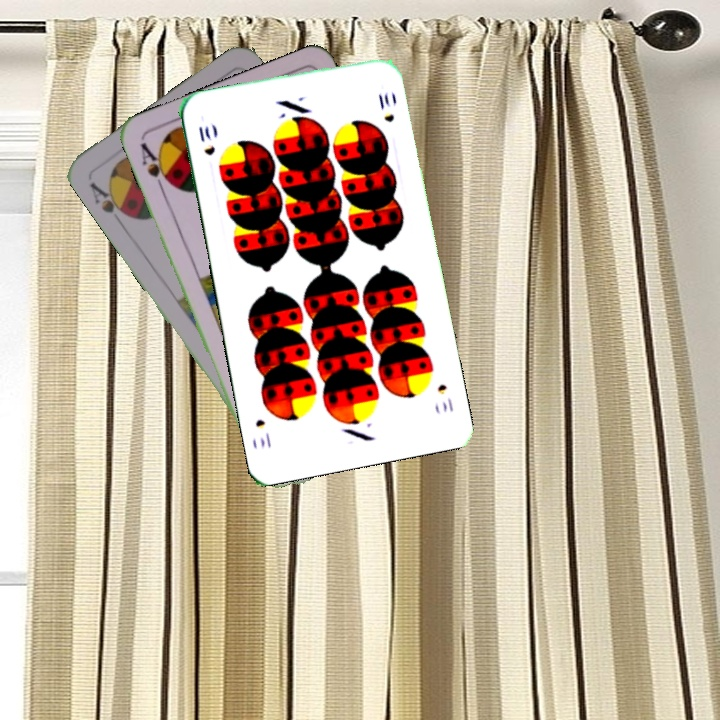S10: (194, 122, 218, 158), (433, 380, 456, 415)
SA: (136, 138, 175, 195), (86, 178, 134, 220)
